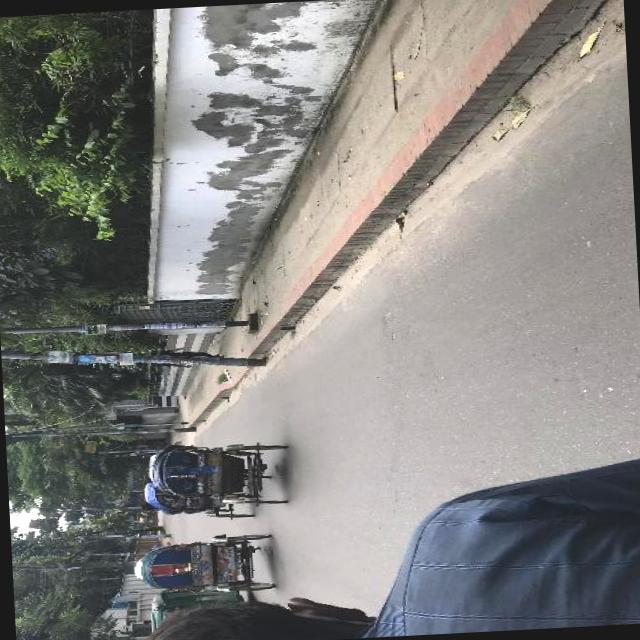motorcycle: (150, 435, 291, 511), (132, 531, 272, 599), (142, 474, 256, 524), (145, 586, 242, 620), (138, 509, 154, 523)
